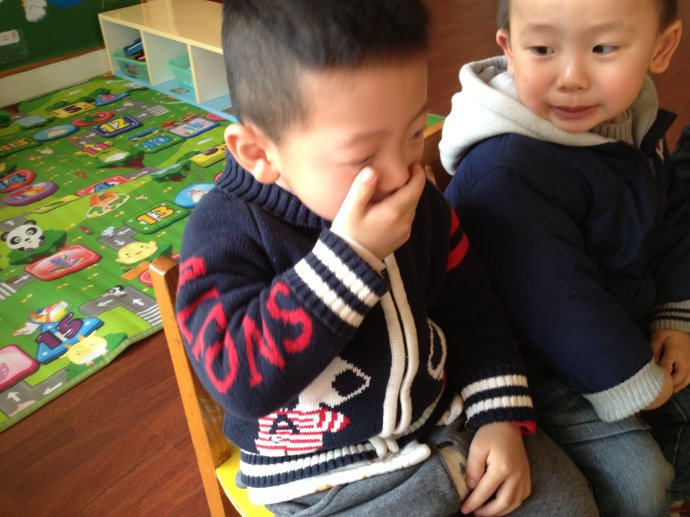face: (272, 65, 438, 232), (506, 1, 652, 135)
